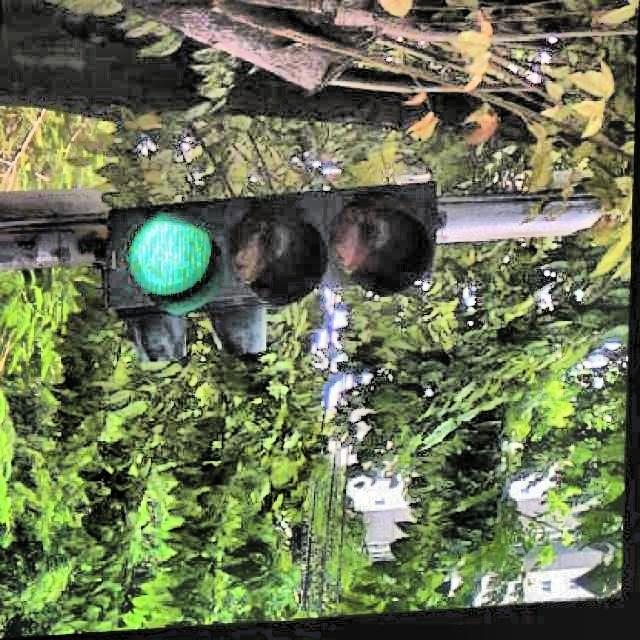green: (124, 188, 462, 297)
